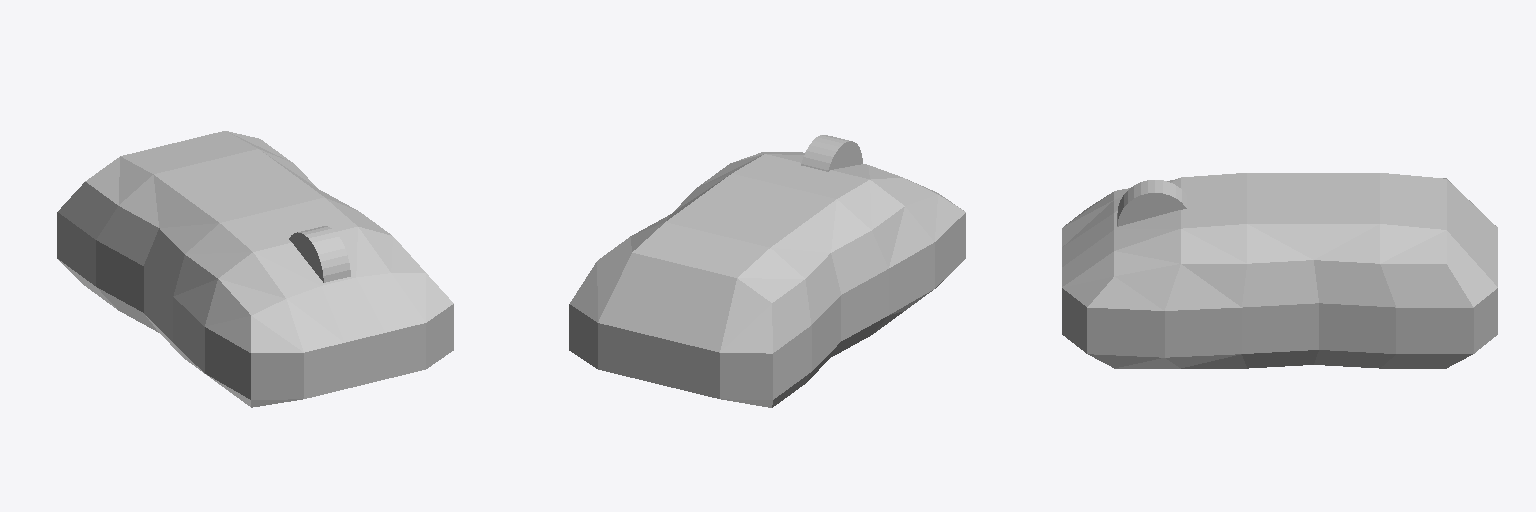
The model's file is mouse.obj.
3 renders of one model, left to right at view 1: azimuth 30°, elevation 25°; view 2: azimuth 150°, elevation 25°; view 3: azimuth 270°, elevation 25°, orthographic.
Visible parts, largest first — view 1: Cube, Cylinder; view 2: Cube, Cylinder; view 3: Cube, Cylinder.
Part boxes in pixels (left/top/right/bottom): Cube: left=57, top=131, right=453, bottom=407; Cylinder: left=289, top=226, right=350, bottom=282; Cube: left=569, top=152, right=965, bottom=407; Cylinder: left=801, top=135, right=862, bottom=171; Cube: left=1062, top=173, right=1497, bottom=368; Cylinder: left=1117, top=180, right=1186, bottom=226.
Bounding box in the file's own units: 2.39 × 1.47 × 4.15.